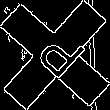P_SW: (24, 24, 86, 86)
